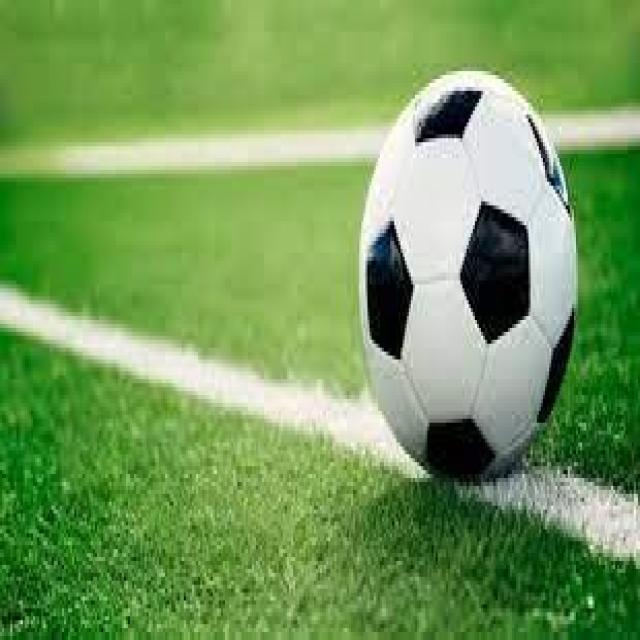Soccer Ball: (361, 75, 576, 474)
